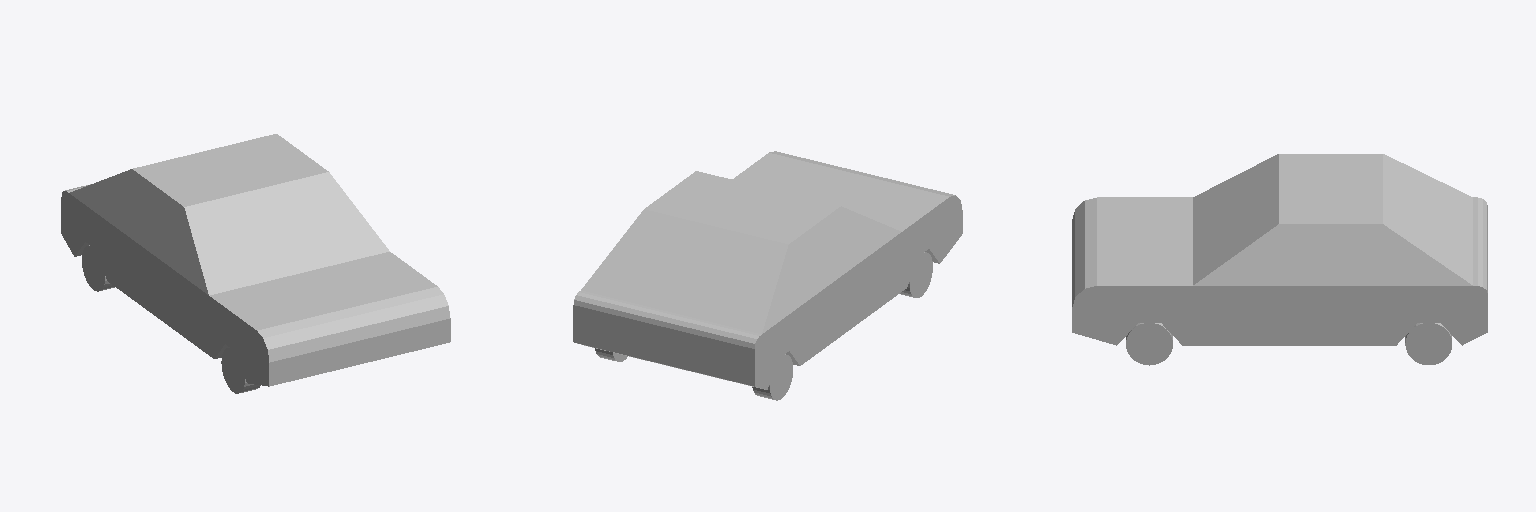
Rendered from car.obj.
3 views of the same model, side by side, from view 1: azimuth 30°, elevation 25°; view 2: azimuth 150°, elevation 25°; view 3: azimuth 270°, elevation 25° (orthographic).
Parts seen in each view (by area): view 1: Cube_Cube.002; view 2: Cube_Cube.002; view 3: Cube_Cube.002.
Part boxes in pixels (x1,y1,x2,y2): Cube_Cube.002: (61, 134, 450, 393); Cube_Cube.002: (573, 151, 962, 400); Cube_Cube.002: (1072, 154, 1487, 365).
Bounding box in the file's own units: 2 × 1.41 × 3.98.